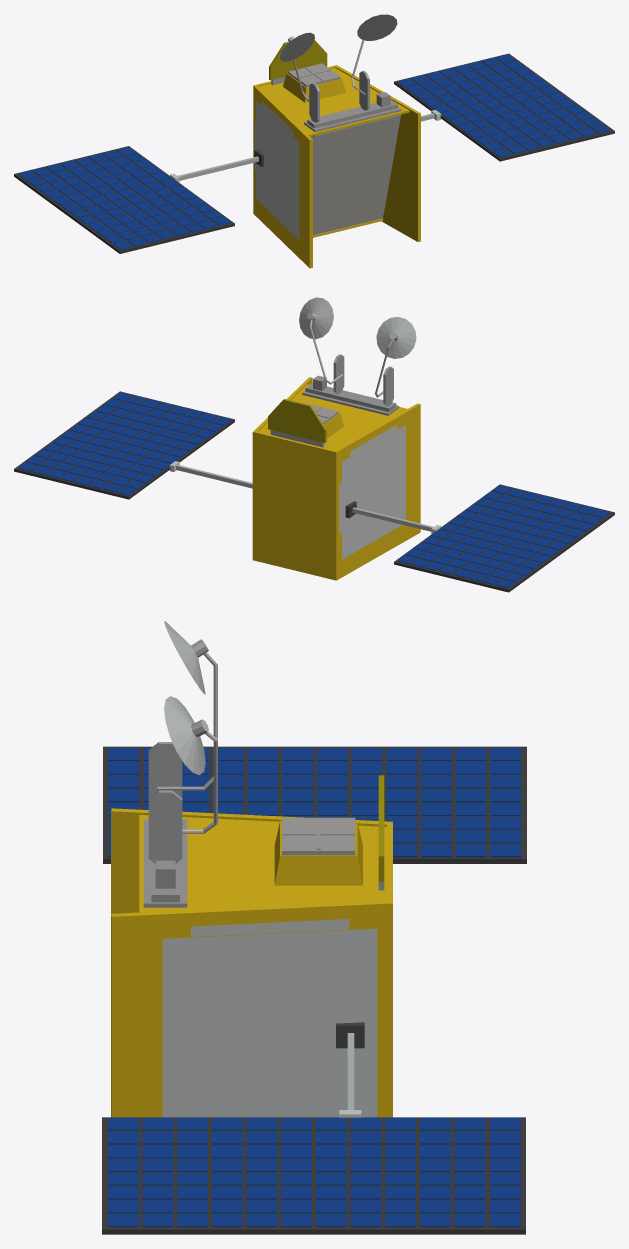
File: oneweb_high.gltf
3 renders of one model, top to bottom at view 1: azimuth 30°, elevation 25°; view 2: azimuth 150°, elevation 25°; view 3: azimuth 270°, elevation 25°, orthographic. The views are drawn at different scales.
Visible parts, largest first — view 1: Cube.220, Cube, Cube.016, Cube.121, Cube.021, Cube.001, Cube.019, Cube.009, Cube.003, Cone, Cube.004, Cube.008 (+4 smaller); view 2: Cube, Cube.016, Cube.121, Cube.021, Cube.001, Cube.019, Cone.001, Cone, Cube.009, Cube.120, Cube.020, Cube.008 (+1 smaller); view 3: Cube.013, Cube, Cube.021, Cube.001, Cube.121, Cube.003, Cube.004, Cube.011, Cone, Cube.014, Cube.012, Cube.008 (+1 smaller).
Boxes of the visible parts, x1=… form: Cube.220: x1=310, y1=116, x2=400, y2=235; Cube: x1=253, y1=65, x2=420, y2=268; Cube.016: x1=256, y1=101, x2=299, y2=239; Cube.121: x1=14, y1=146, x2=234, y2=253; Cube.021: x1=394, y1=53, x2=614, y2=161; Cube.001: x1=259, y1=68, x2=409, y2=136; Cube.019: x1=269, y1=40, x2=327, y2=80; Cube.009: x1=307, y1=99, x2=397, y2=128; Cube.003: x1=283, y1=73, x2=345, y2=102; Cone: x1=357, y1=14, x2=397, y2=40; Cube.004: x1=288, y1=63, x2=340, y2=86; Cube.008: x1=304, y1=107, x2=401, y2=136; Cube: x1=252, y1=377, x2=420, y2=580; Cube.016: x1=342, y1=425, x2=405, y2=559; Cube.121: x1=394, y1=484, x2=614, y2=592; Cube.021: x1=14, y1=391, x2=234, y2=499; Cube.001: x1=258, y1=384, x2=407, y2=450; Cube.019: x1=268, y1=399, x2=326, y2=442; Cone.001: x1=376, y1=317, x2=416, y2=358; Cone: x1=299, y1=297, x2=333, y2=339; Cube.009: x1=305, y1=383, x2=396, y2=411; Cube.120: x1=352, y1=507, x2=433, y2=531; Cube.020: x1=176, y1=464, x2=252, y2=488; Cube.008: x1=302, y1=391, x2=399, y2=415; Cube.013: x1=162, y1=928, x2=377, y2=1117; Cube: x1=111, y1=808, x2=392, y2=1117; Cube.021: x1=102, y1=1117, x2=525, y2=1234; Cube.001: x1=139, y1=815, x2=386, y2=912; Cube.121: x1=103, y1=746, x2=526, y2=863; Cube.003: x1=274, y1=821, x2=362, y2=885; Cube.004: x1=282, y1=817, x2=355, y2=855; Cube.011: x1=148, y1=790, x2=182, y2=863; Cone: x1=164, y1=696, x2=205, y2=774; Cube.014: x1=191, y1=919, x2=349, y2=936; Cube.012: x1=148, y1=742, x2=182, y2=797; Cube.008: x1=143, y1=819, x2=187, y2=907.
Size of the model in its own units: 8.08 by 3.48 by 3.
